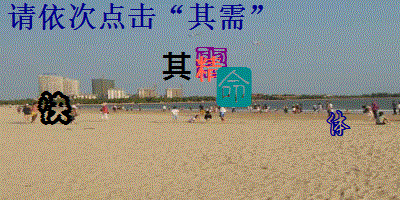text: (215, 66, 252, 108), (37, 90, 72, 125), (194, 45, 229, 79), (161, 50, 192, 82), (195, 55, 224, 83), (325, 110, 352, 137)
